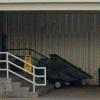stairs: (11, 72, 52, 97)
